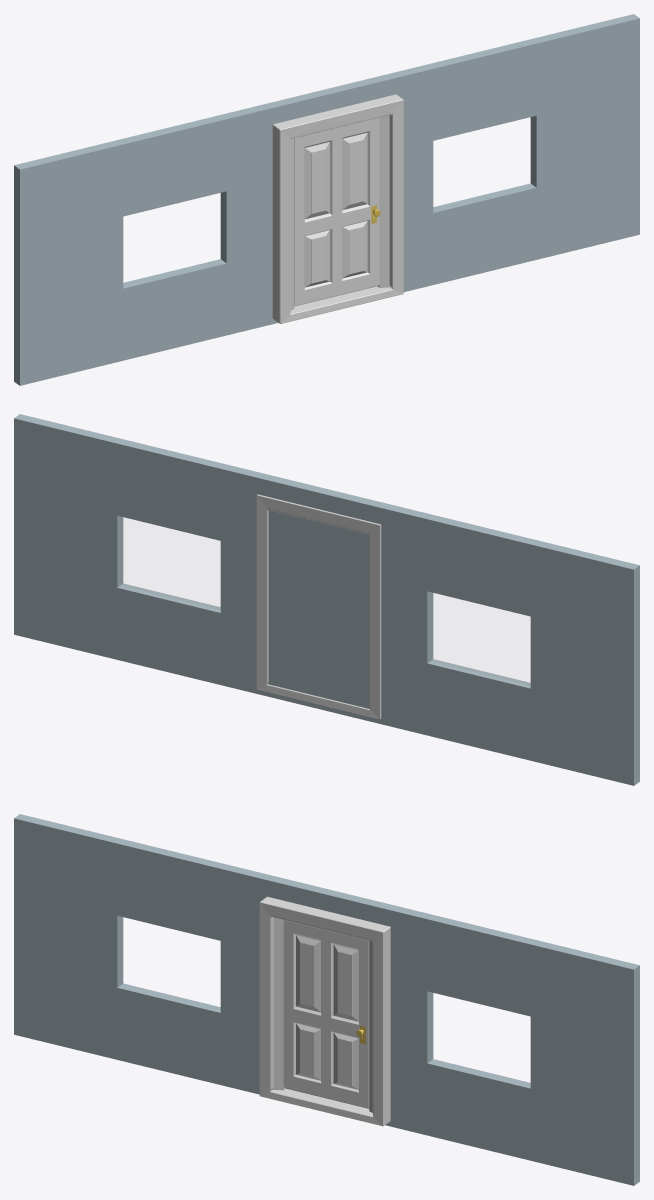
File: wall_front.gltf
The picture shows the model from 3 angles, top to bottom: view 1: azimuth 30°, elevation 25°; view 2: azimuth 150°, elevation 25°; view 3: azimuth 330°, elevation 25°; orthographic projection.
Parts seen in each view (by area): view 1: wall; view 2: wall; view 3: wall.
Part boxes in pixels (<box>): wall: <box>14,14,639,385</box>; wall: <box>14,414,639,785</box>; wall: <box>14,814,639,1185</box>.
Size of the model in its own units: 120 by 40 by 4.72.
